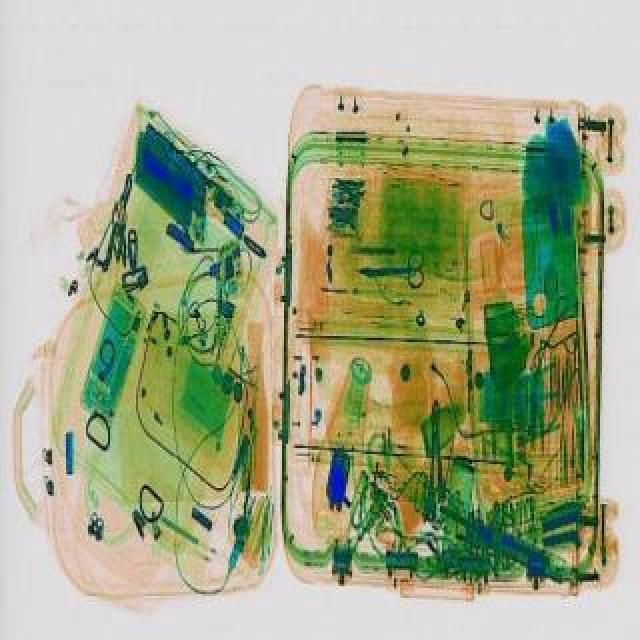pliers: (358, 250, 426, 284)
